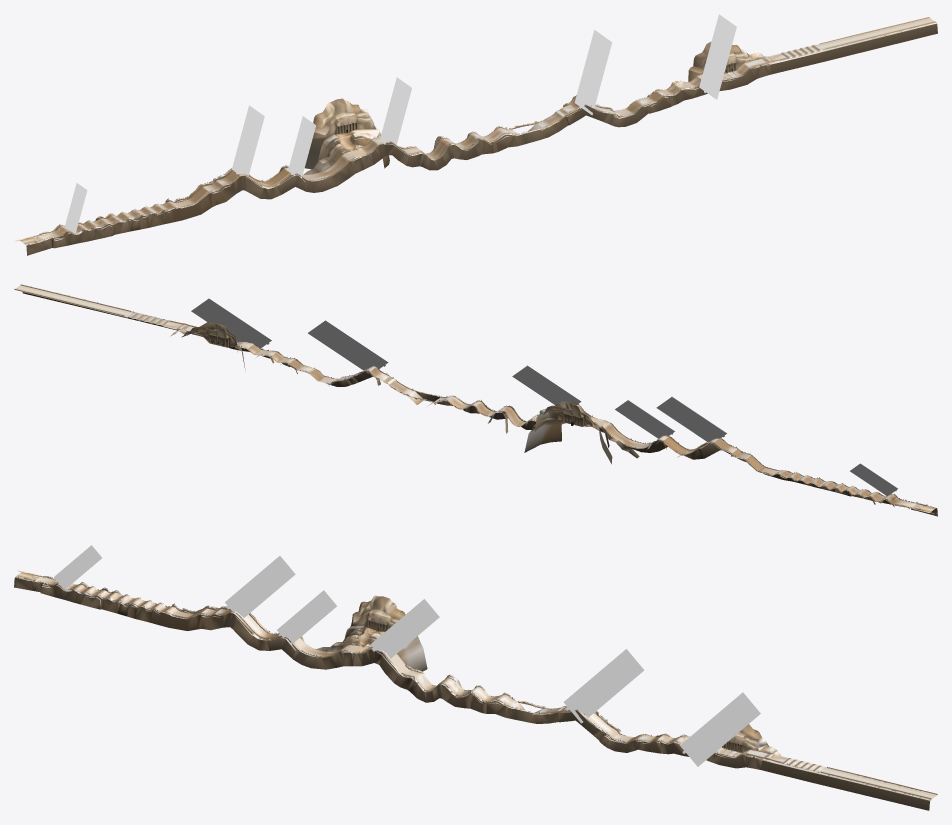
File: Desert_12.fbx
3 views of the same model, one above another, from view 1: azimuth 30°, elevation 25°; view 2: azimuth 150°, elevation 25°; view 3: azimuth 330°, elevation 25° (orthographic).
Parts seen in each view (by area): view 1: Mountain_01, Light_01, Ground_01, Road_01, Tree_01, Leak_01; view 2: Light_01, Mountain_01, Ground_01, Road_01, Tree_01, Leak_01; view 3: Mountain_01, Light_01, Ground_01, Road_01, Tree_01, Leak_01.
Part boxes in pixels (box(x1,y1,x2,y2)): Mountain_01: box(25, 23, 937, 255); Light_01: box(64, 14, 736, 233); Ground_01: box(20, 18, 934, 244); Road_01: box(25, 18, 935, 244); Tree_01: box(26, 21, 936, 244); Leak_01: box(182, 17, 935, 206); Light_01: box(191, 298, 897, 495); Mountain_01: box(22, 292, 937, 516); Ground_01: box(15, 285, 935, 512); Road_01: box(14, 289, 935, 512); Tree_01: box(31, 286, 934, 510); Leak_01: box(14, 284, 777, 470); Mountain_01: box(14, 576, 930, 810); Light_01: box(53, 545, 760, 766); Ground_01: box(17, 572, 936, 799); Road_01: box(16, 576, 936, 799); Tree_01: box(18, 573, 930, 800); Leak_01: box(174, 612, 937, 798).
Size of the model in its own units: 124981 by 12069 by 8307.
